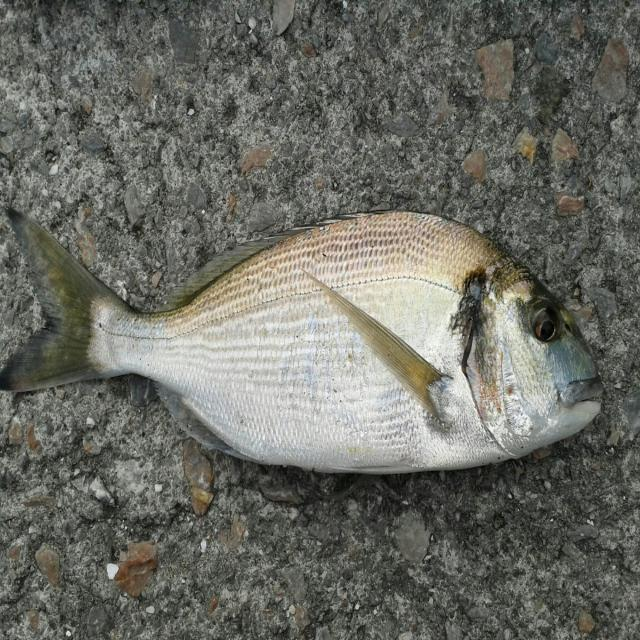Healthy Fish: (0, 204, 619, 484)
